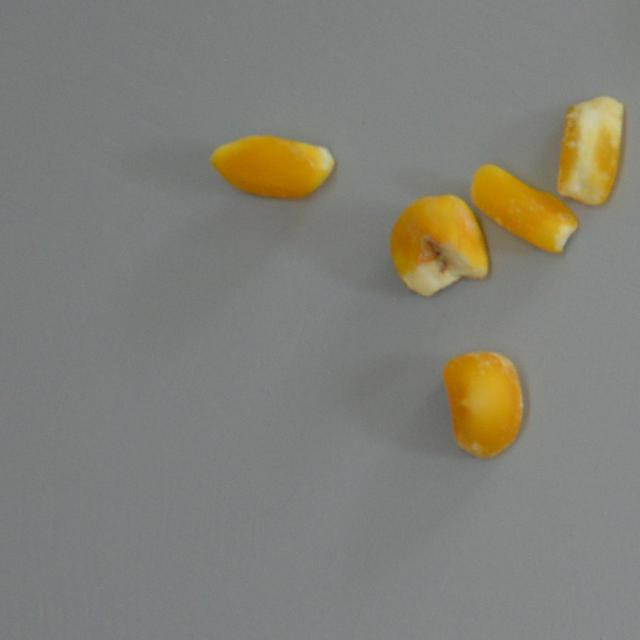dañado: (386, 192, 492, 296), (439, 344, 530, 462)
estandar: (203, 133, 338, 198)
pelicula: (469, 158, 582, 256), (556, 92, 626, 207)
